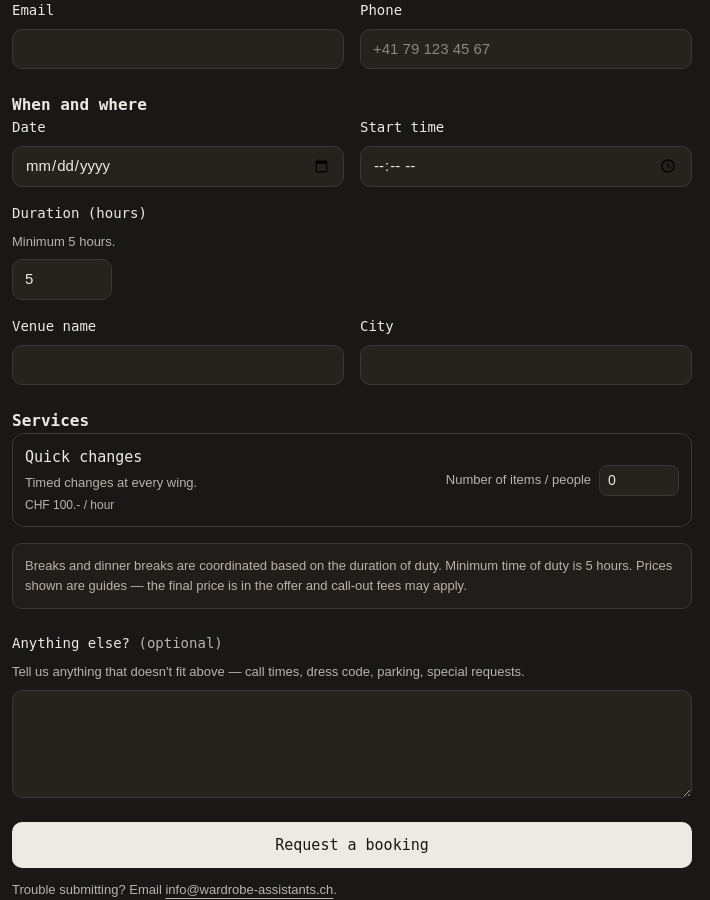
Test: BookingRequestForm — a11y › error state (field validation errors) has no axe violations
The width and height of the screenshot is (710, 900).
(page scrolled)
Click the button "Request a booking". click: (352, 845)
box: [12,822,692,868]
(page scrolled)
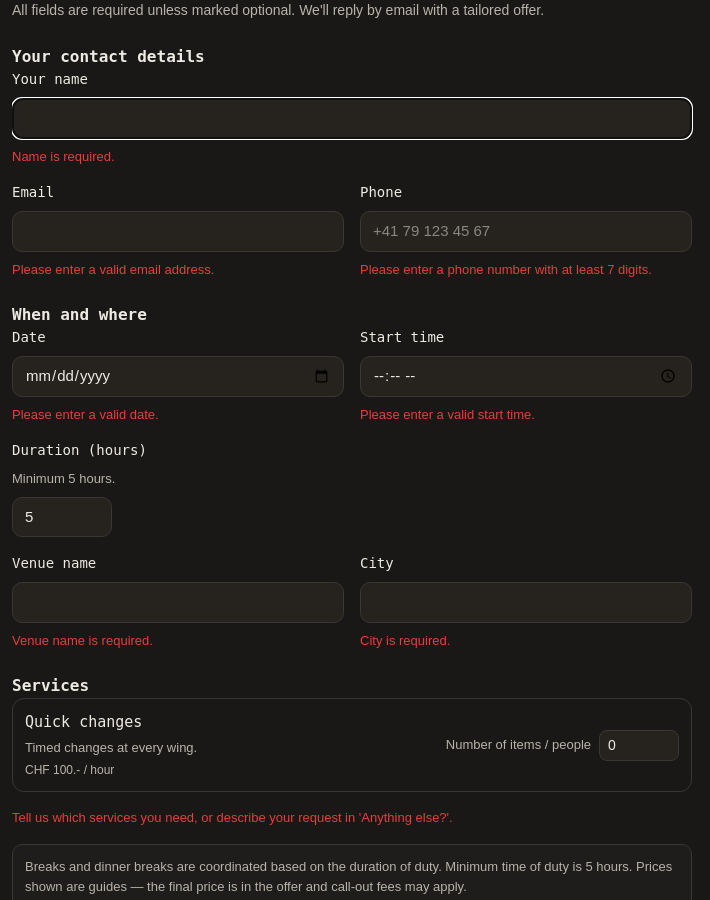
Expected: the message "Name is required." is shown, [12,148,115,164]
